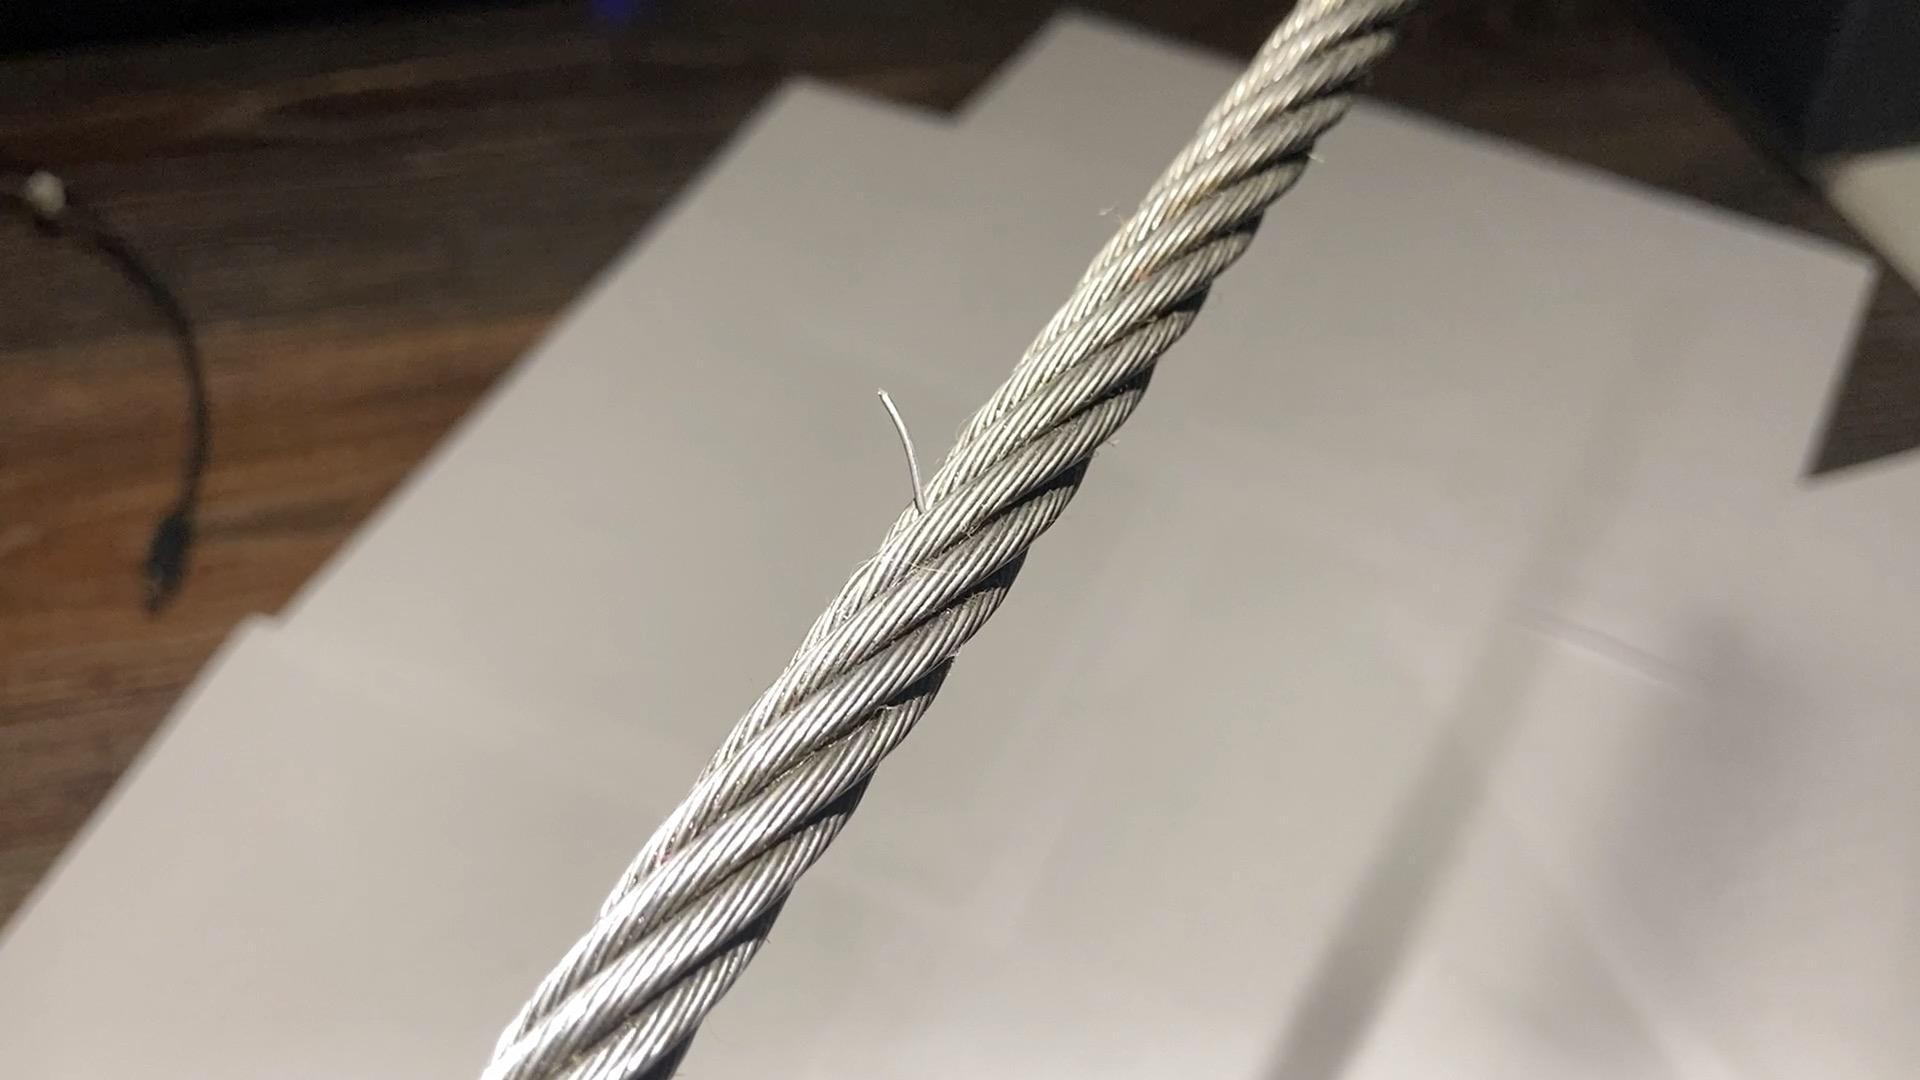break: (872, 373, 951, 524)
